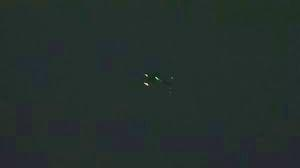Plane: (138, 64, 180, 100)
